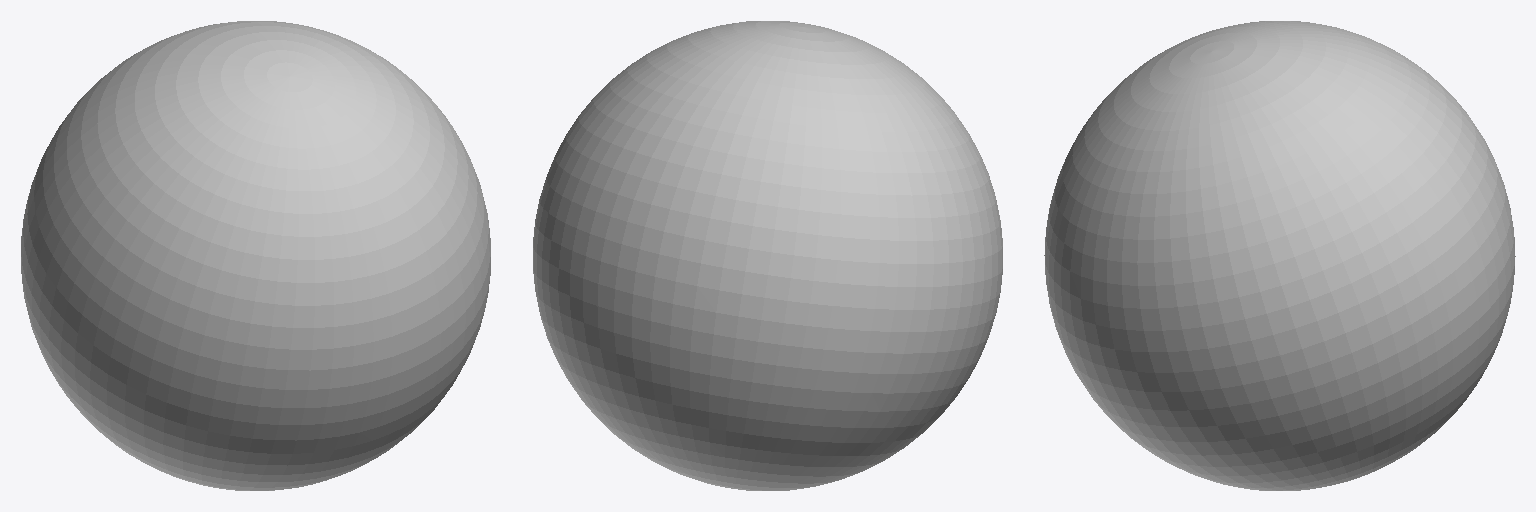
3 renders of one model, left to right at view 1: azimuth 30°, elevation 25°; view 2: azimuth 150°, elevation 25°; view 3: azimuth 270°, elevation 25°, orthographic.
Visible parts, largest first — view 1: Saturn_Sphere; view 2: Saturn_Sphere; view 3: Saturn_Sphere.
Part boxes in pixels (x1,y1,x2,y2): Saturn_Sphere: (21, 21, 490, 490); Saturn_Sphere: (533, 21, 1002, 490); Saturn_Sphere: (1044, 21, 1515, 490).
Size of the model in its own units: 2 by 2 by 2.